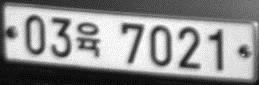0: (149, 24, 173, 66), (24, 14, 46, 54)
1: (204, 27, 230, 72)
2: (177, 26, 202, 70)
3: (50, 16, 72, 58)
7: (120, 22, 145, 64)
육: (74, 20, 103, 59)
